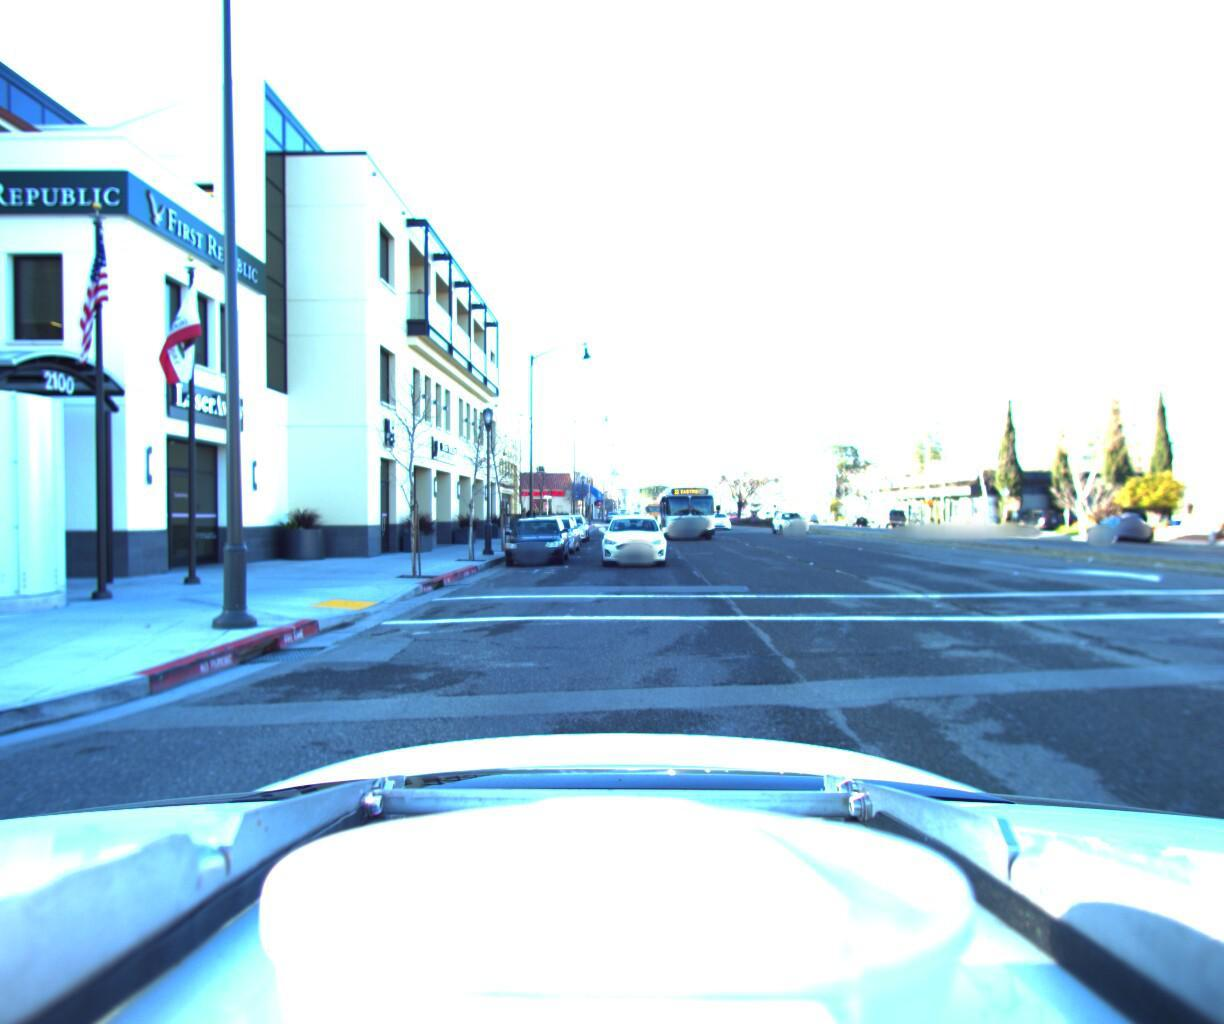bicycle: (522, 499, 538, 531)
bus: (654, 470, 723, 541)
car: (598, 504, 668, 567), (501, 508, 570, 567), (1076, 509, 1158, 538), (525, 508, 579, 551), (541, 507, 580, 545), (768, 499, 813, 529), (1009, 502, 1066, 524), (552, 507, 588, 539), (873, 501, 907, 522), (703, 503, 735, 524)
